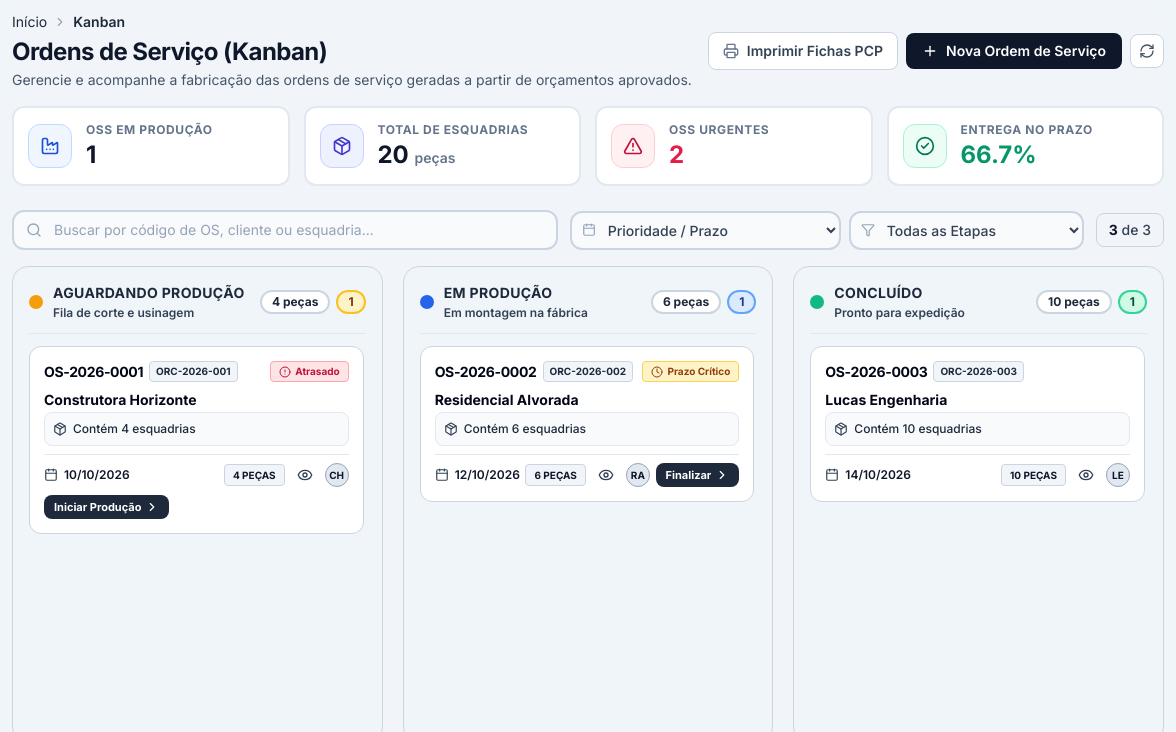
ProductionKanbanPage Component (US-18.5) › deve filtrar ordens em tempo real pelo nome do cliente
In the field with test id "input-search-kanban": point(285, 230) [12,210,558,250], type "Alvorada"
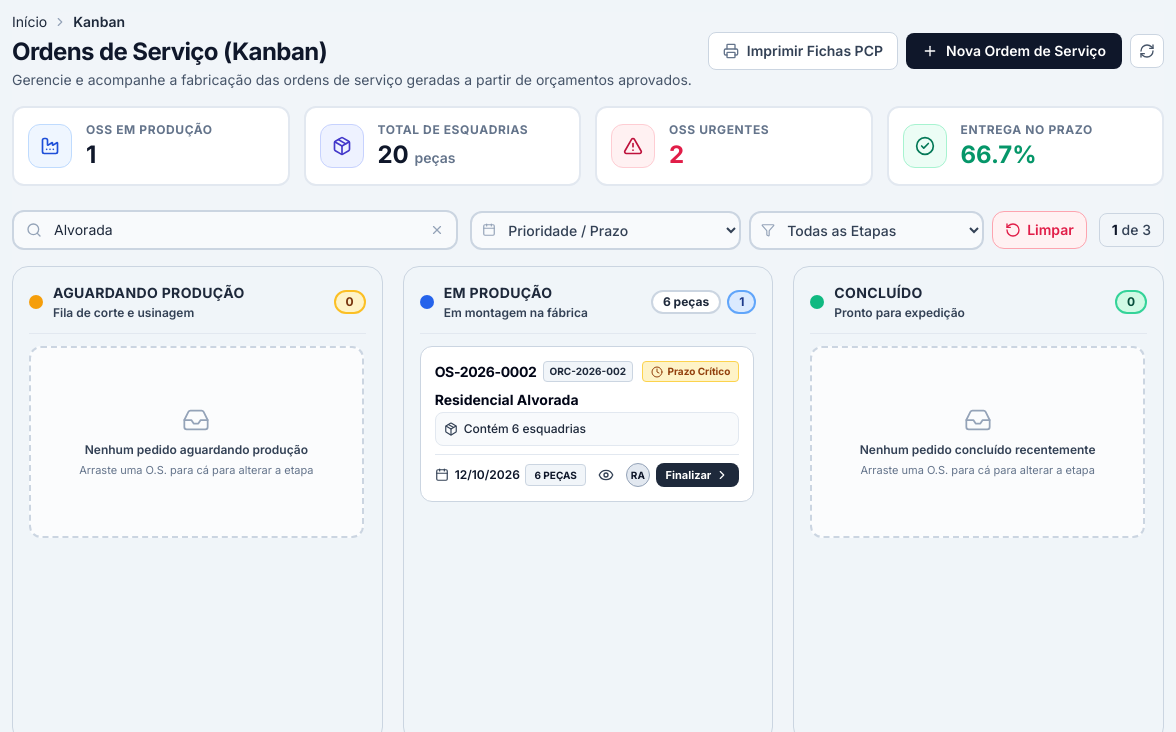
Check: the text "OS-2026-0002" is shown, box [435,362,537,382]
Check: the text "OS-2026-0001" is gone
Check: the text "OS-2026-0003" is gone
